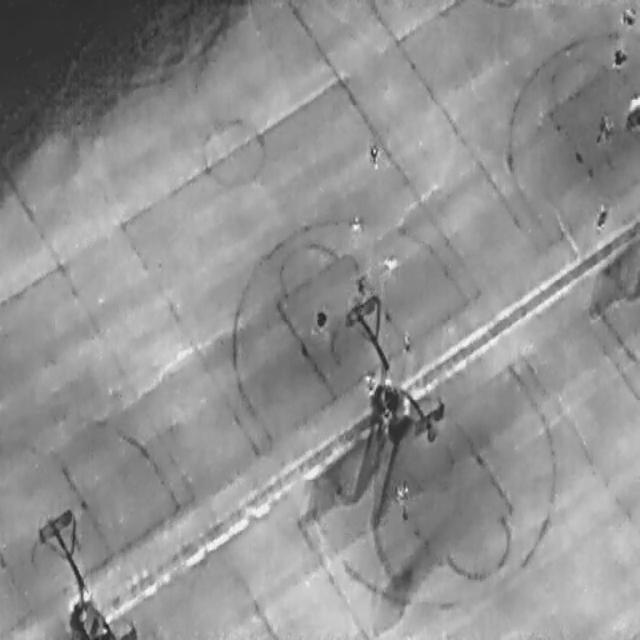Person: (593, 110, 618, 146), (607, 42, 628, 74), (616, 0, 638, 29), (378, 248, 400, 276), (592, 199, 609, 231), (347, 212, 363, 236), (312, 306, 328, 330), (393, 480, 409, 504), (398, 327, 412, 352), (367, 142, 380, 168)
